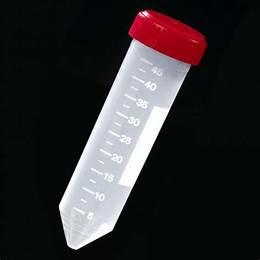Test tube: (44, 12, 214, 255)
